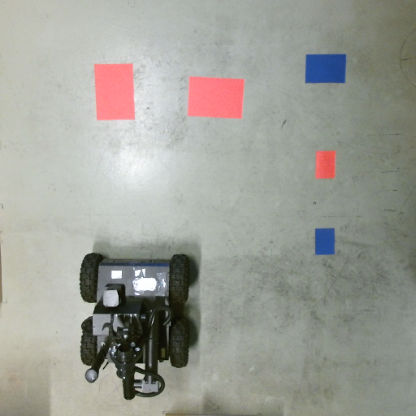Blue: (303, 53, 347, 86), (311, 227, 337, 256)
Jaguar: (75, 252, 197, 402)
Red: (93, 63, 137, 122), (188, 77, 244, 119), (314, 149, 336, 181)
